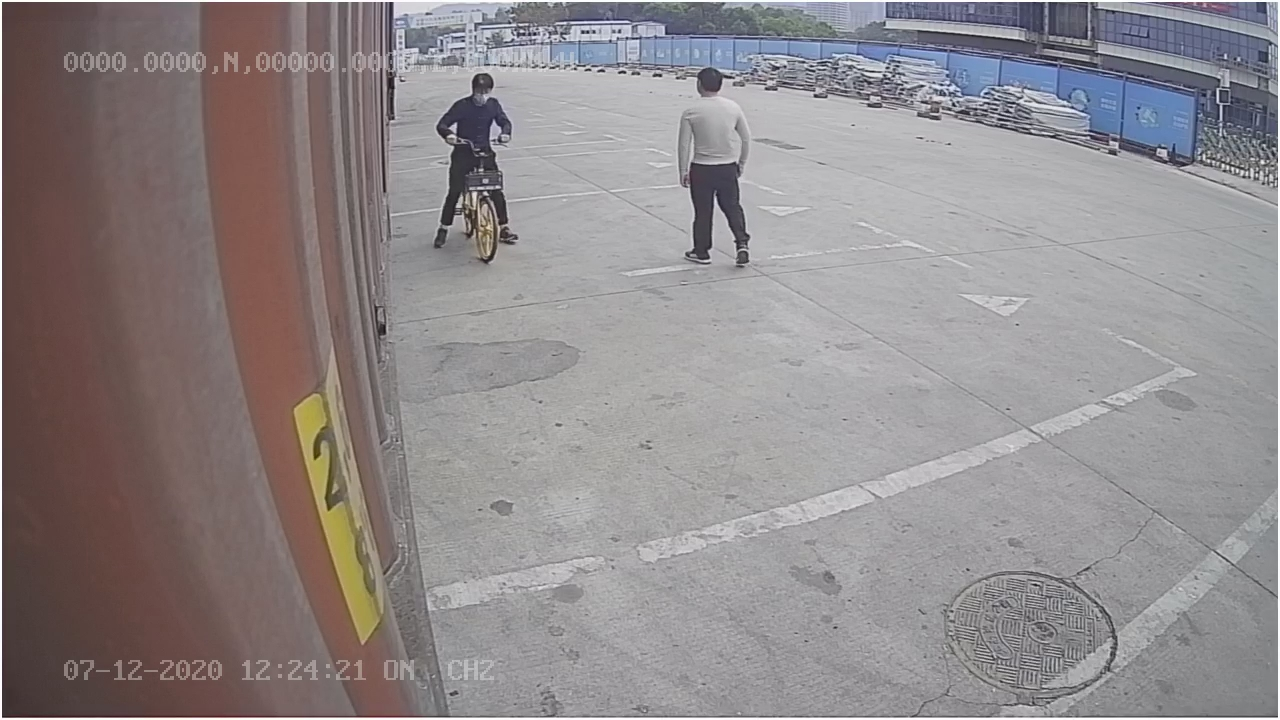person: (673, 64, 757, 271)
